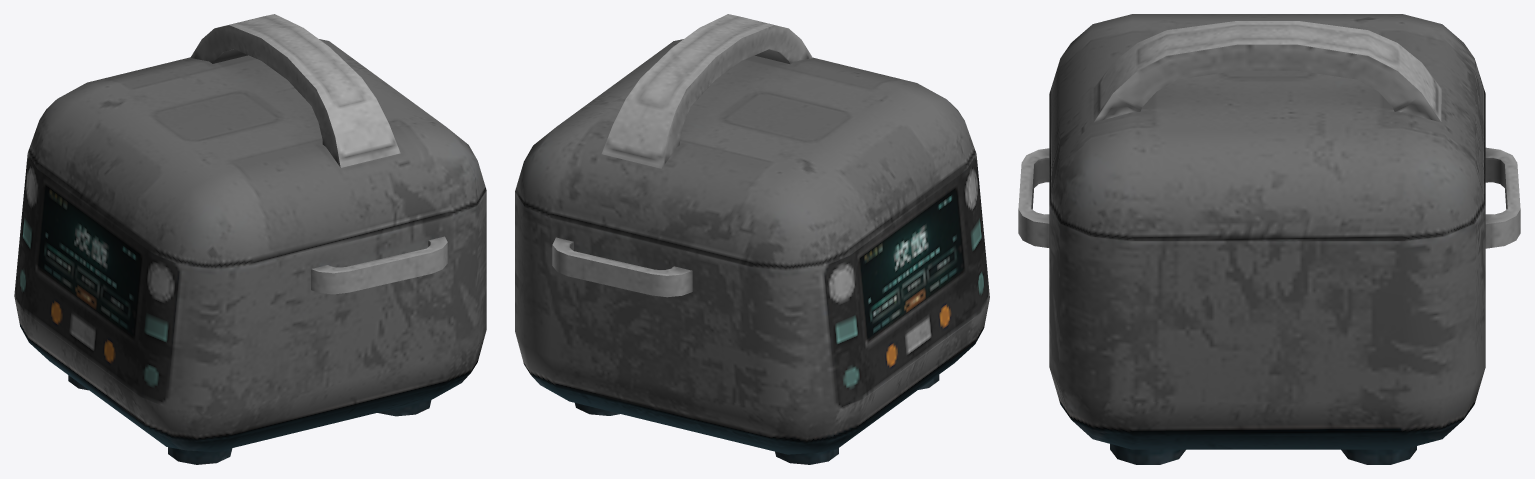
The model's file is CP_Multicooker.fbx.
The picture shows the model from 3 angles, left to right: view 1: azimuth 30°, elevation 25°; view 2: azimuth 150°, elevation 25°; view 3: azimuth 270°, elevation 25°; orthographic projection. The views are drawn at different scales.
Visible parts, largest first — view 1: CP_Multicooker_LOD0; view 2: CP_Multicooker_LOD0; view 3: CP_Multicooker_LOD0.
Part boxes in pixels (<box>): CP_Multicooker_LOD0: <box>14,14,486,464</box>; CP_Multicooker_LOD0: <box>515,14,989,464</box>; CP_Multicooker_LOD0: <box>1018,14,1520,464</box>.
Size of what is drawn, in the model's own units: 36.83 by 35.04 by 41.17.
